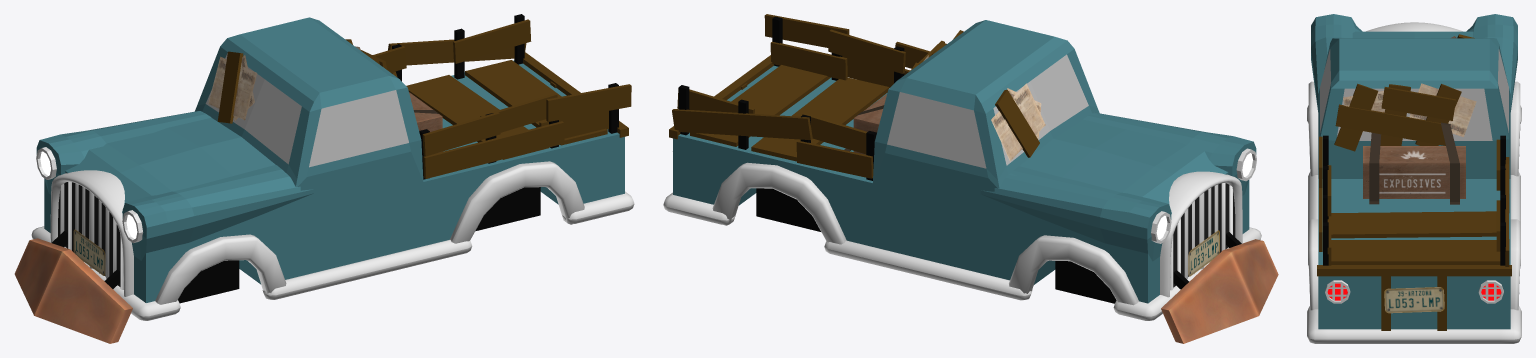
The model's file is Car_player.fbx.
The picture shows the model from 3 angles, left to right: view 1: azimuth 30°, elevation 25°; view 2: azimuth 150°, elevation 25°; view 3: azimuth 270°, elevation 25°; orthographic projection. The views are drawn at different scales.
Parts seen in each view (by area): view 1: Cube.037; view 2: Cube.037; view 3: Cube.037.
Boxes of the visible parts, left/top/right/bottom form: Cube.037: left=14, top=14, right=634, bottom=343; Cube.037: left=663, top=14, right=1278, bottom=343; Cube.037: left=1307, top=14, right=1521, bottom=343.
Bounding box in the file's own units: 651 × 219 × 235.
